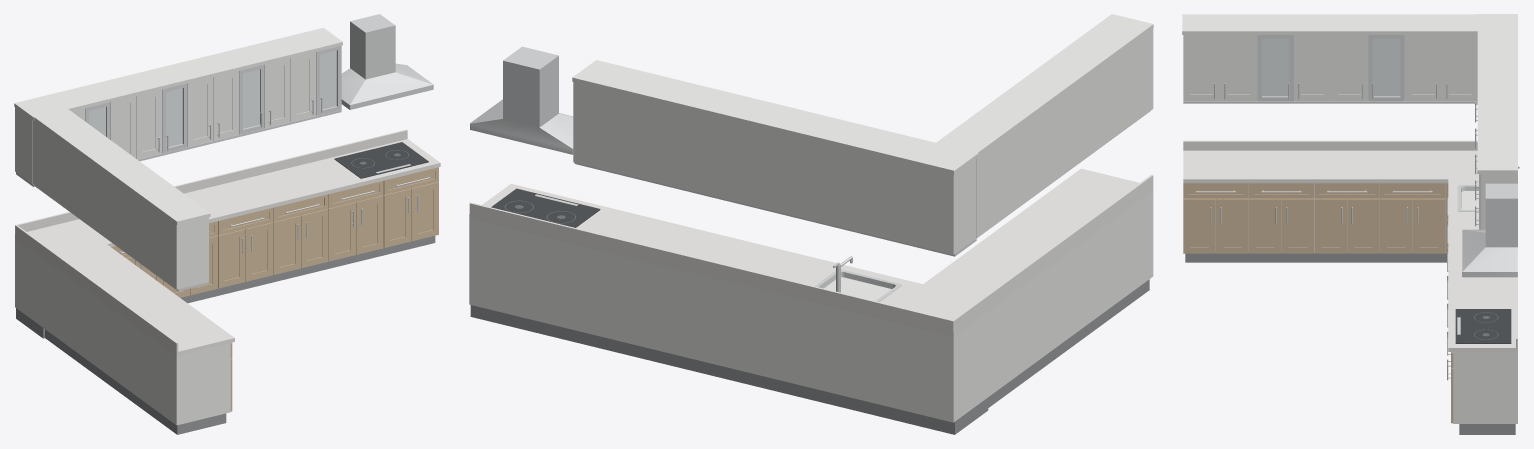
3 renders of one model, left to right at view 1: azimuth 30°, elevation 25°; view 2: azimuth 150°, elevation 25°; view 3: azimuth 270°, elevation 25°, orthographic. The views are drawn at different scales.
Parts seen in each view (by area): view 1: Tủ bếp chữ L Dài cạnh chính=4200; Dài cạnh phụ=3000; Sâu tủ ; view 2: Tủ bếp chữ L Dài cạnh chính=4200; Dài cạnh phụ=3000; Sâu tủ ; view 3: Tủ bếp chữ L Dài cạnh chính=4200; Dài cạnh phụ=3000; Sâu tủ .
Boxes of the visible parts, x1,y1,x2,y2 form: Tủ bếp chữ L Dài cạnh chính=4200; Dài cạnh phụ=3000; Sâu tủ : (14, 14, 440, 434); Tủ bếp chữ L Dài cạnh chính=4200; Dài cạnh phụ=3000; Sâu tủ : (469, 14, 1153, 434); Tủ bếp chữ L Dài cạnh chính=4200; Dài cạnh phụ=3000; Sâu tủ : (1182, 14, 1519, 434).
Size of the model in its own units: 4.21 by 2.2 by 3.02.
